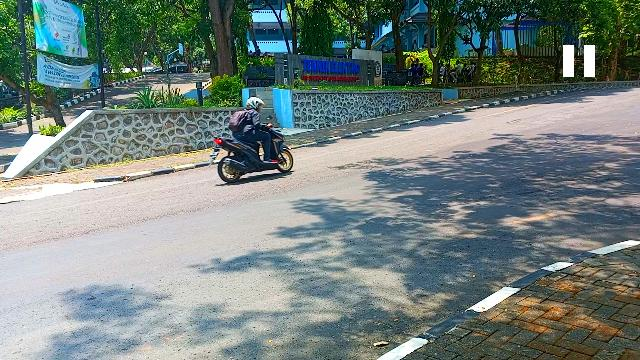helm: (248, 99, 266, 113)
motor: (212, 125, 294, 184)
